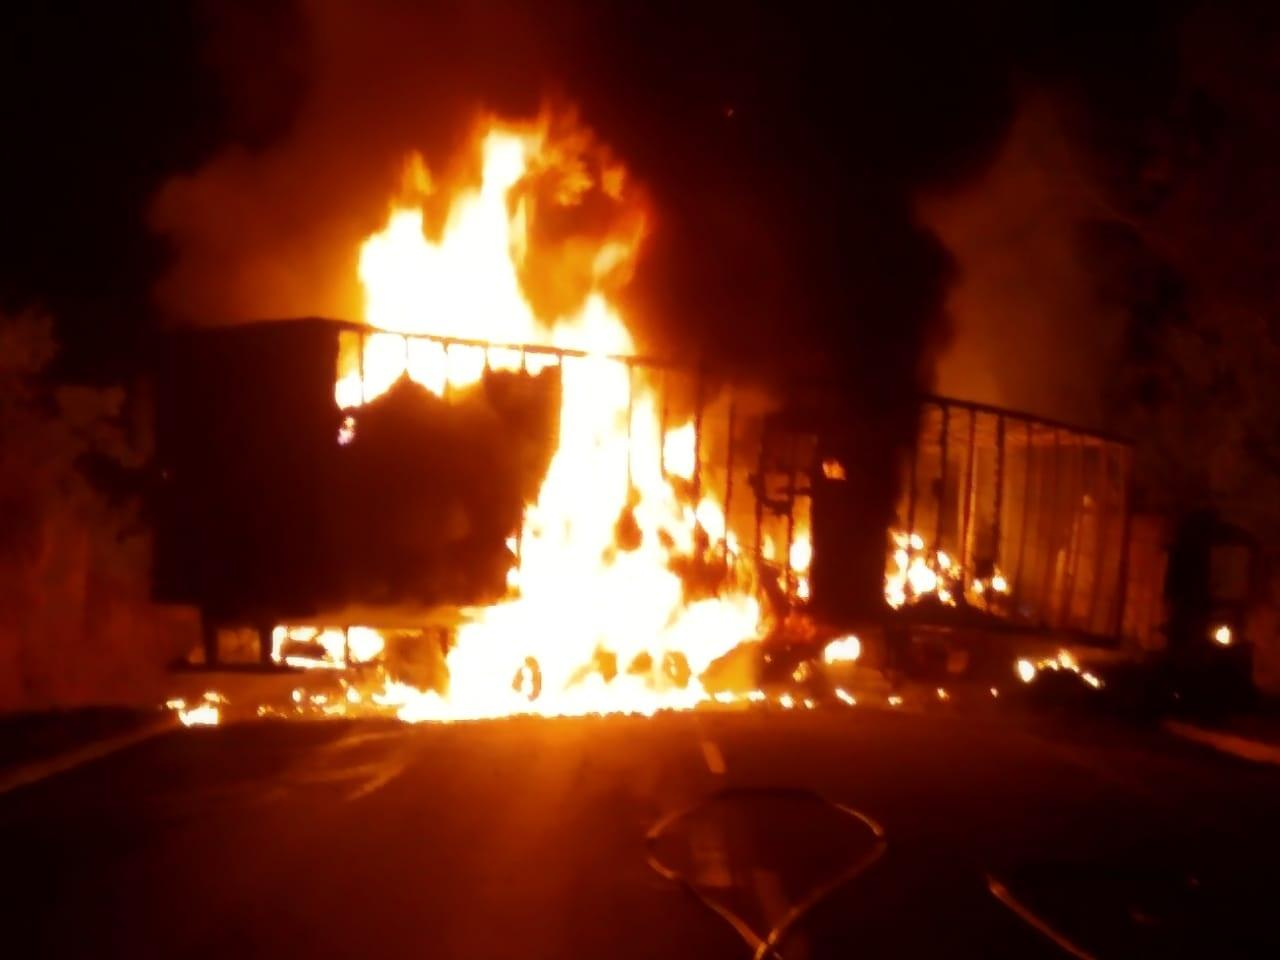fire: (520, 525, 692, 713), (363, 223, 535, 367)
